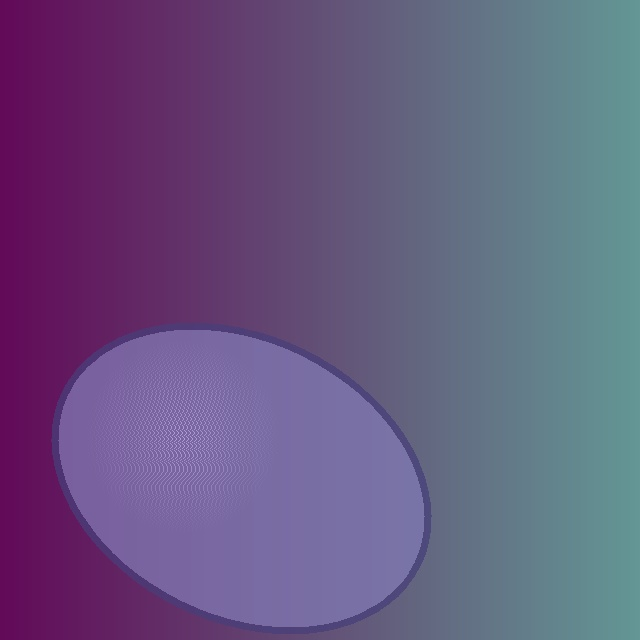lens: (55, 326, 427, 630)
